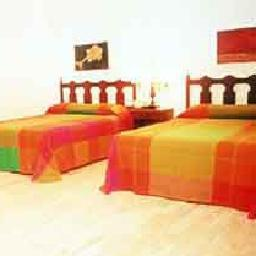Cama: (106, 108, 253, 193), (1, 102, 122, 174)
